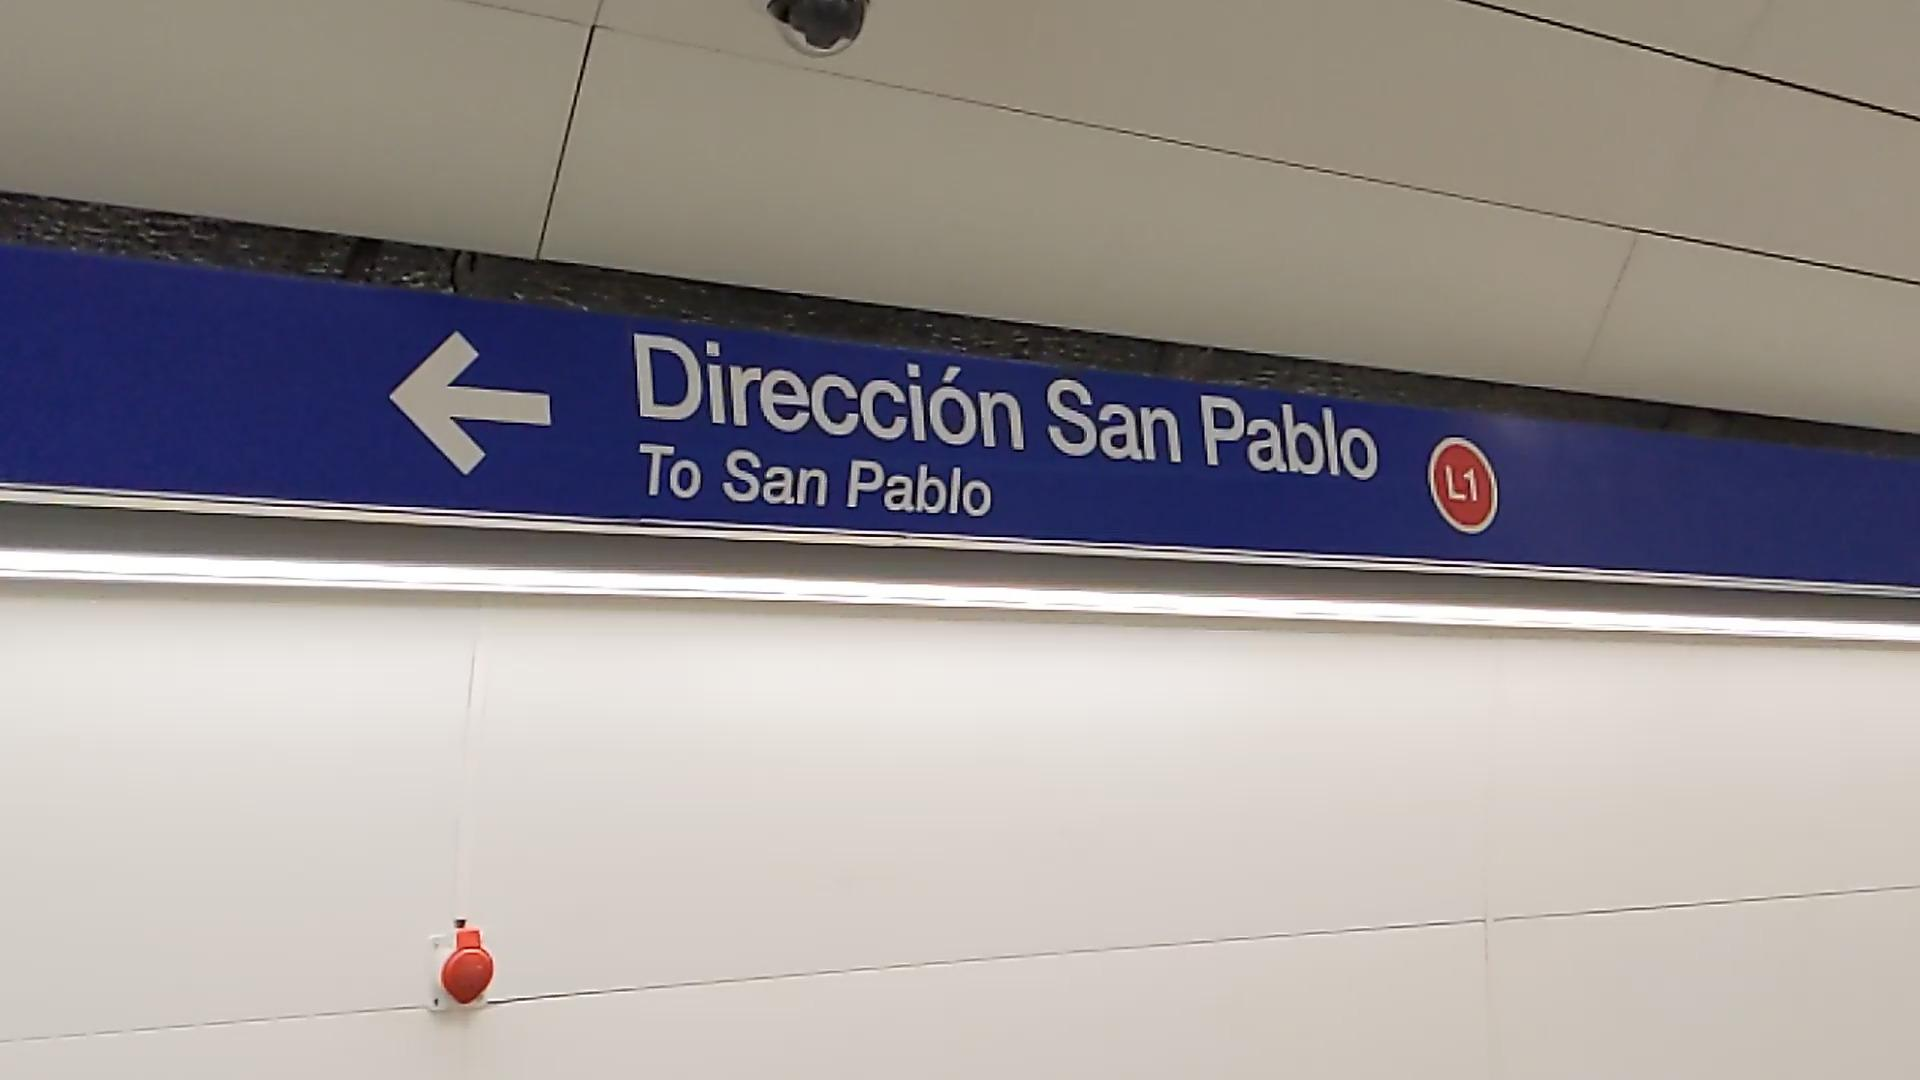left arrow: (384, 324, 555, 481)
